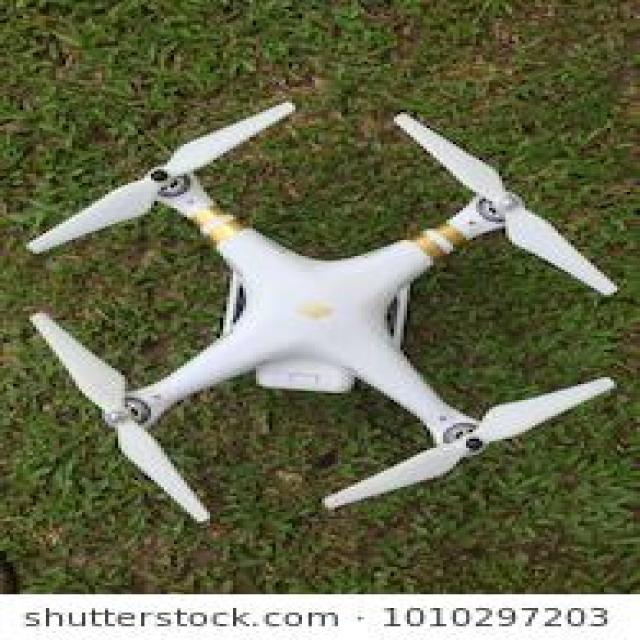drone: (0, 80, 640, 543)
